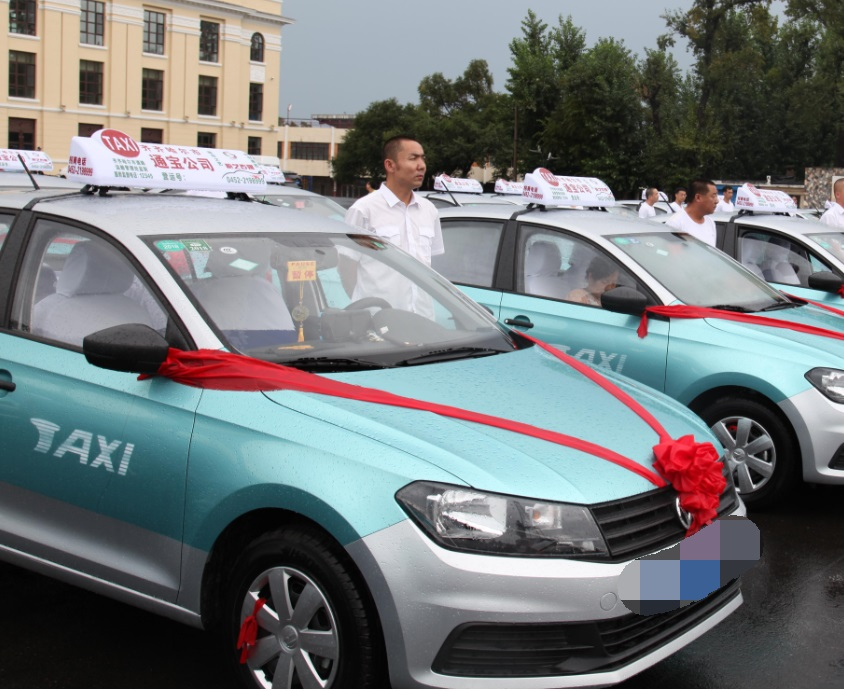taxi: (7, 129, 757, 686)
